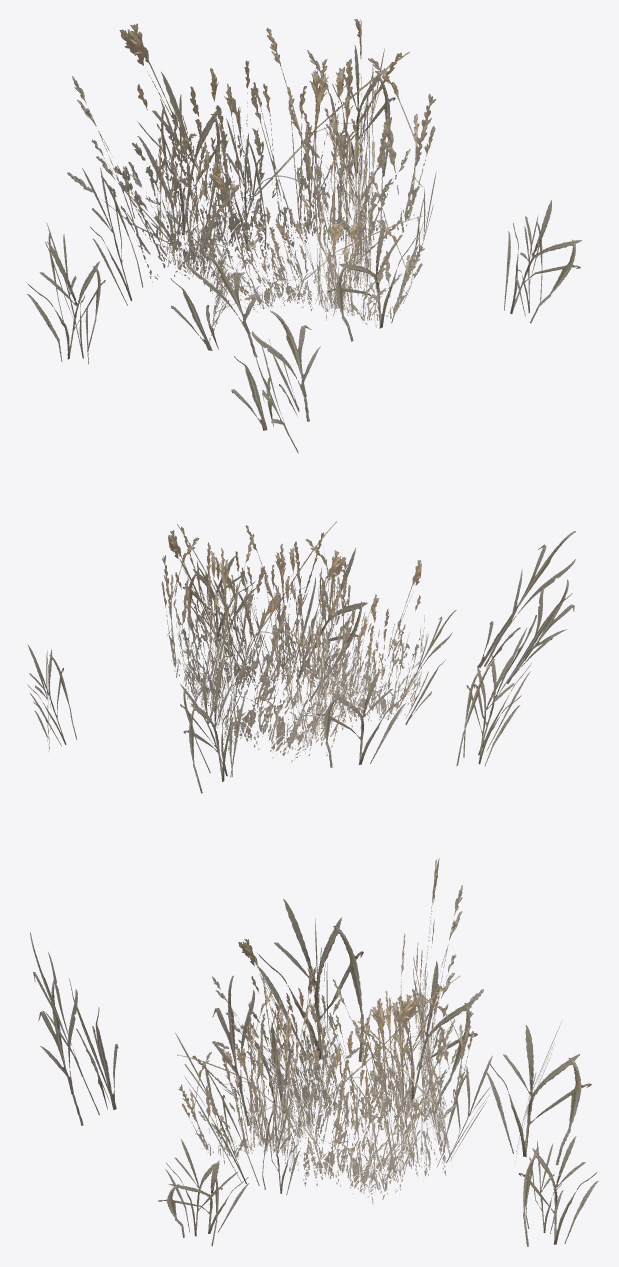
File: prop_tall_drygrass_aa.FBX
3 views of the same model, one above another, from view 1: azimuth 30°, elevation 25°; view 2: azimuth 150°, elevation 25°; view 3: azimuth 270°, elevation 25° (orthographic). The views are drawn at different scales.
Parts seen in each view (by area): view 1: prop_tall_drygrass_aa; view 2: prop_tall_drygrass_aa; view 3: prop_tall_drygrass_aa.
Boxes of the visible parts, <box> form: prop_tall_drygrass_aa: <box>26,19,581,453</box>; prop_tall_drygrass_aa: <box>27,521,575,793</box>; prop_tall_drygrass_aa: <box>30,858,598,1246</box>.
Bounding box in the file's own units: 1.83 × 1.95 × 1.09.
Materials: 1 (1 with a texture image).
